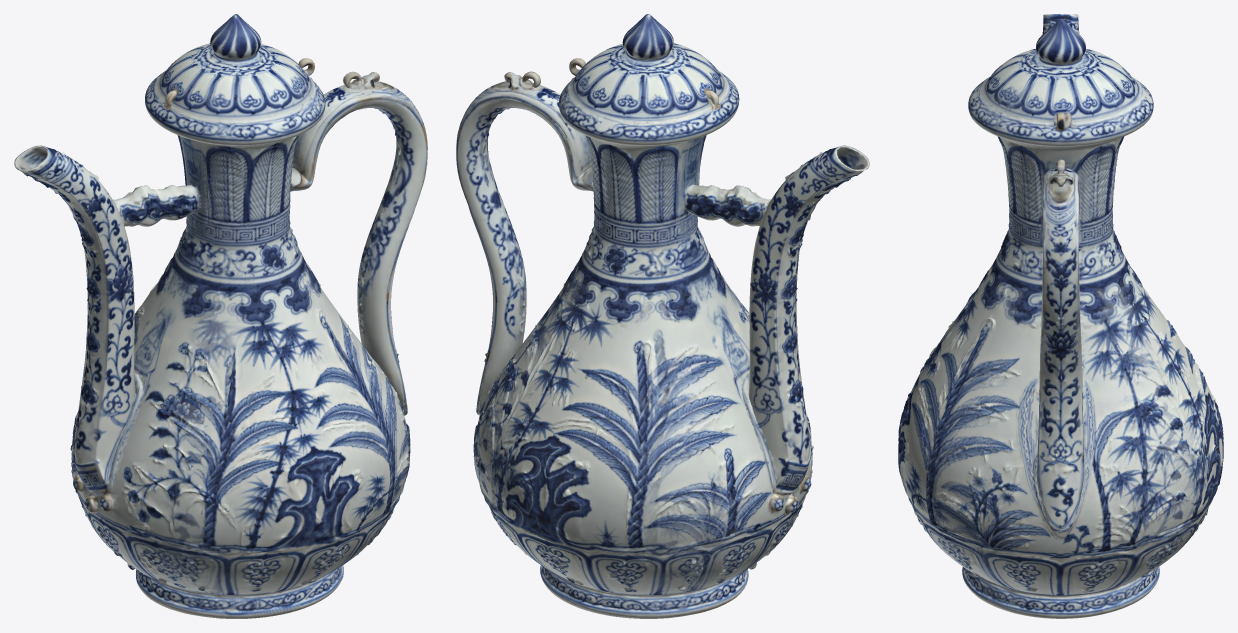
File: assets__models__resin-1.glb
3 views of the same model, side by side, from view 1: azimuth 30°, elevation 25°; view 2: azimuth 150°, elevation 25°; view 3: azimuth 270°, elevation 25° (orthographic).
Visible parts, largest first — view 1: tripo_node_cbcd3a29-65d0-4218-baa2-cd55866bd755; view 2: tripo_node_cbcd3a29-65d0-4218-baa2-cd55866bd755; view 3: tripo_node_cbcd3a29-65d0-4218-baa2-cd55866bd755.
Boxes of the visible parts, bbox=[...] form: tripo_node_cbcd3a29-65d0-4218-baa2-cd55866bd755: bbox=[14, 14, 427, 618]; tripo_node_cbcd3a29-65d0-4218-baa2-cd55866bd755: bbox=[456, 14, 869, 618]; tripo_node_cbcd3a29-65d0-4218-baa2-cd55866bd755: bbox=[898, 14, 1223, 618].
Bounding box in the file's own units: 0.754 × 1 × 0.5308.
1 material, 1 textured.
